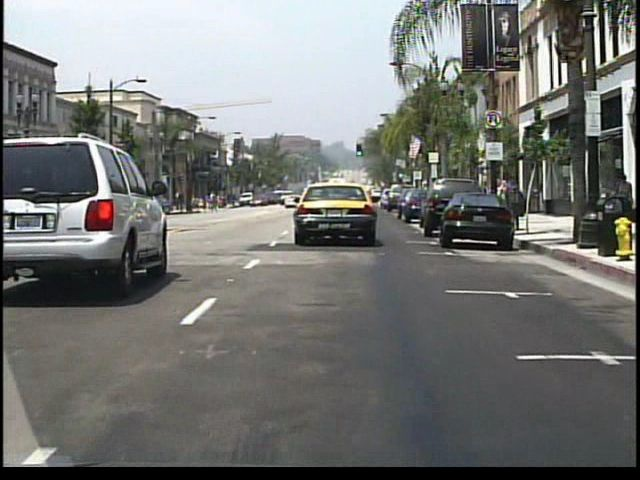person: (606, 172, 633, 237), (504, 176, 521, 220), (496, 180, 509, 215), (229, 195, 236, 211)
